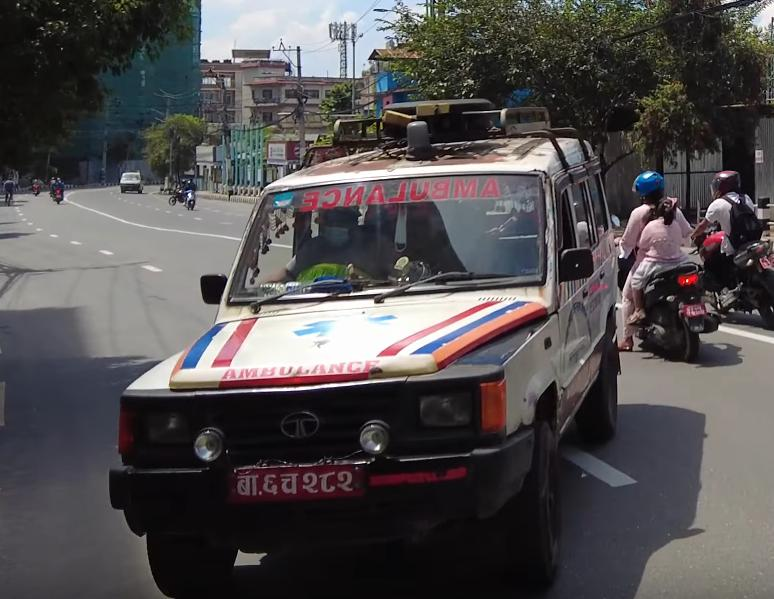ambulance: (102, 94, 628, 599)
scooter: (611, 230, 722, 363)
